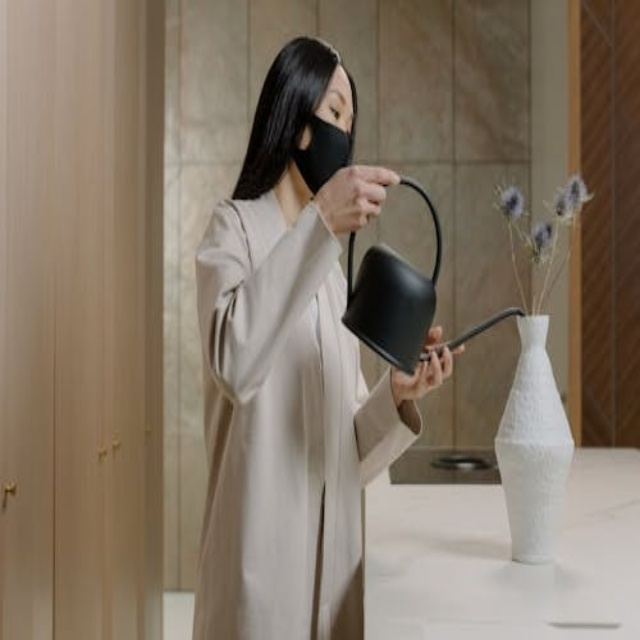Mascara: (293, 116, 354, 197)
Sin_gafas: (323, 92, 360, 127)
Sin_guantes: (314, 160, 402, 234), (392, 329, 459, 403)
